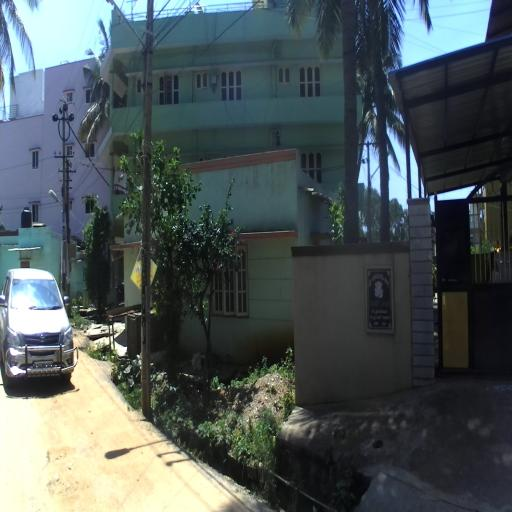street_light_0: (104, 0, 155, 91), (49, 190, 63, 205)
